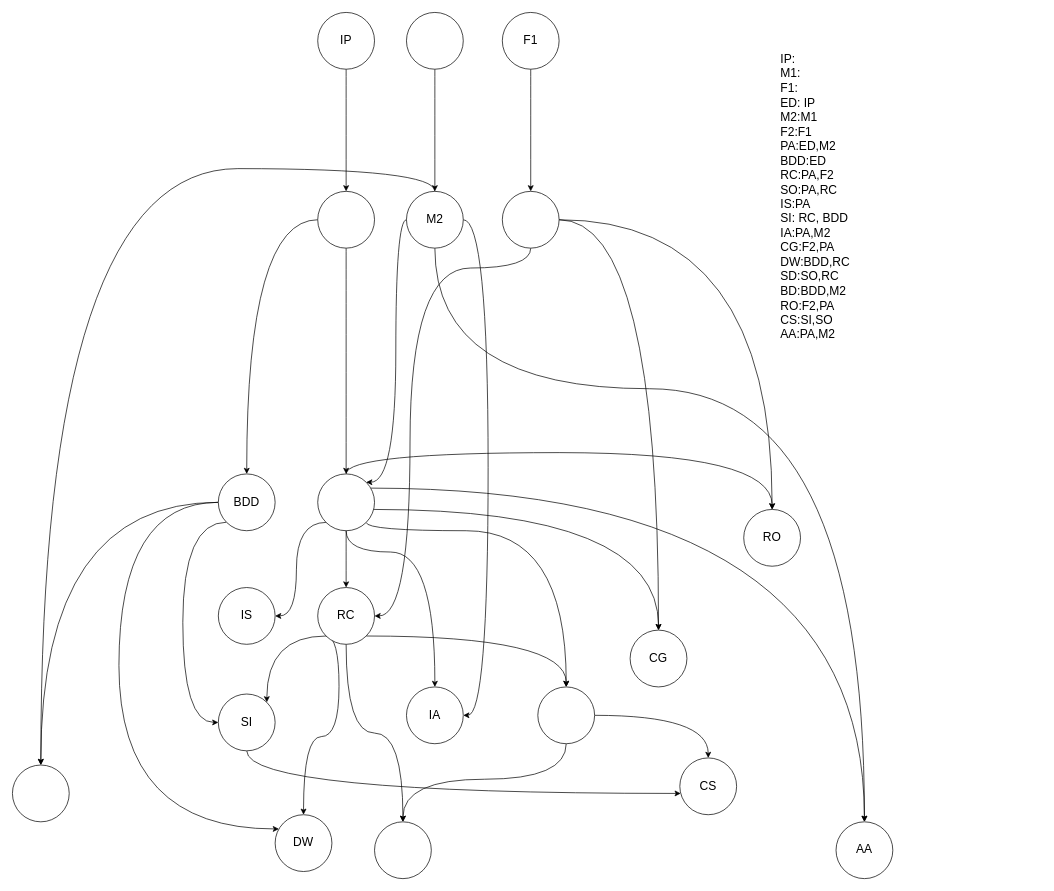
Image size: 1054x891. Some labels were removed from this diagram. The centre of each missing label's shape, as x and y in pixels:
"BD" belongs at point (40, 793).
"ED" belongs at point (346, 219).
"F2" belongs at point (530, 219).
"M1" belongs at point (434, 40).
"PA" belongs at point (346, 502).
"SD" belongs at point (402, 850).
"SO" belongs at point (566, 715).
